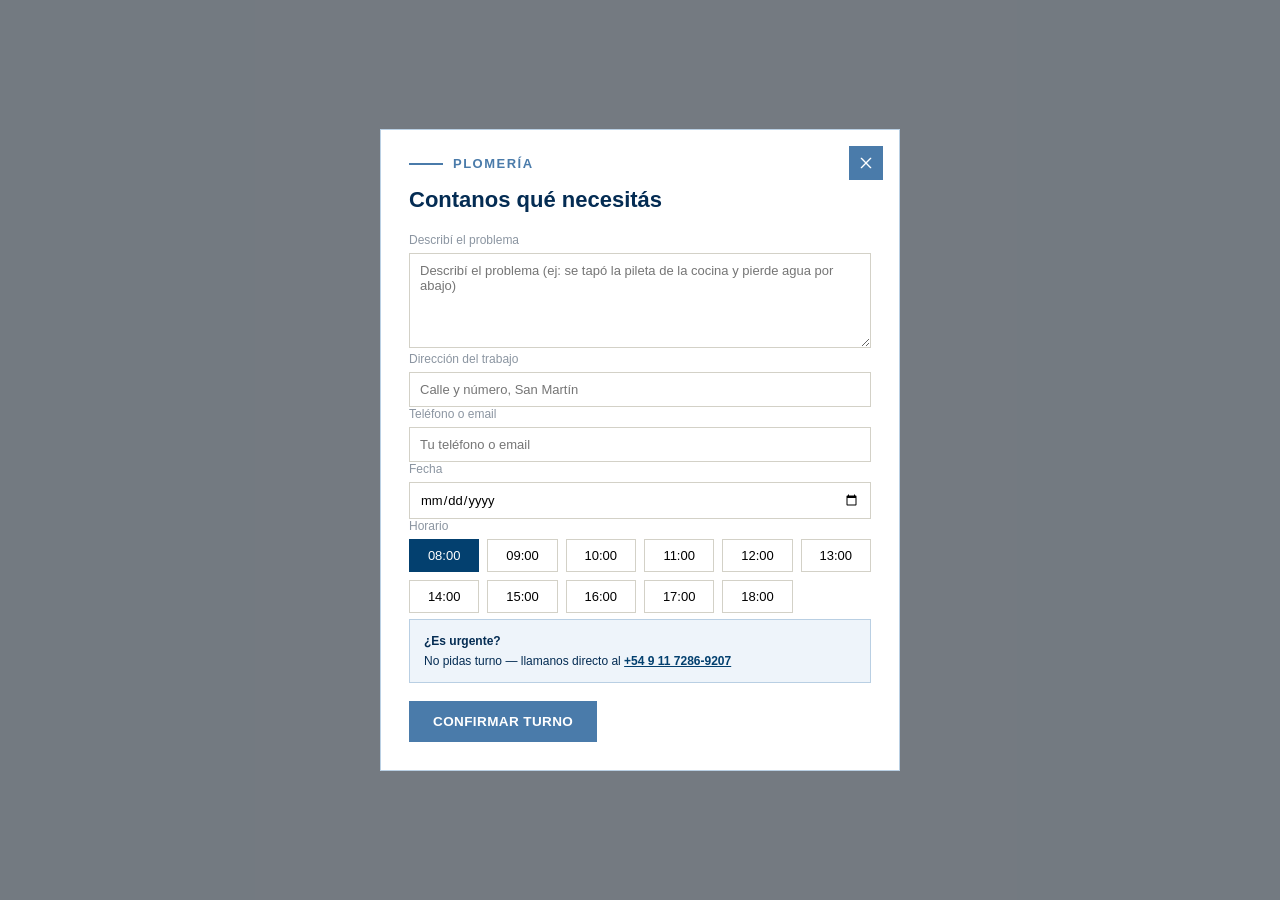
BookingModal › muestra el mensaje de horario ocupado (SLOT_TAKEN) sin romper el form
Type "Se tapó la pileta y pierde agua por abajo." into the text box labelled "Describí el problema" at (640, 300), box [409,253,871,348]
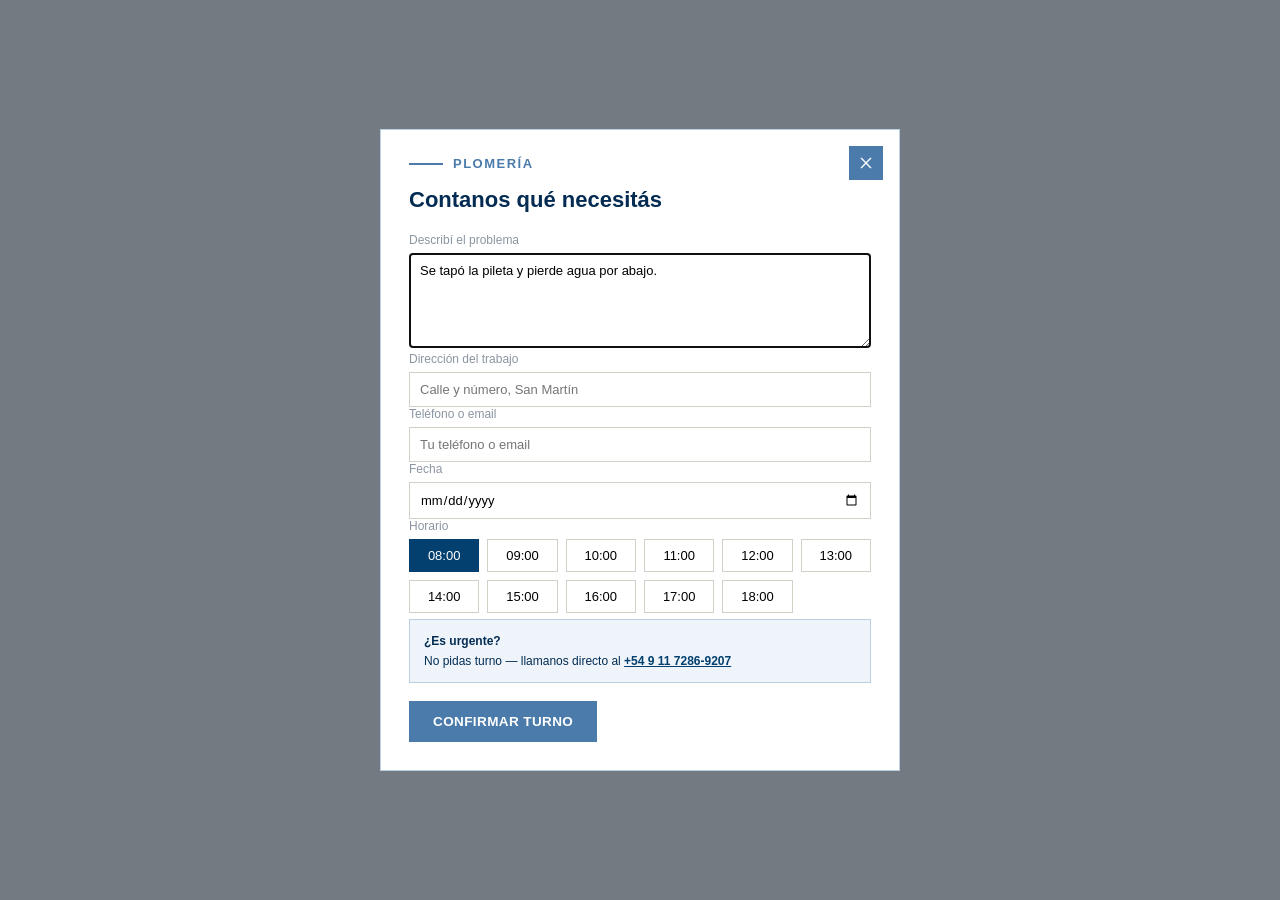
Type "Av. San Martín 1234" into the field labelled "Dirección del trabajo" at (640, 390), box [409,372,871,407]
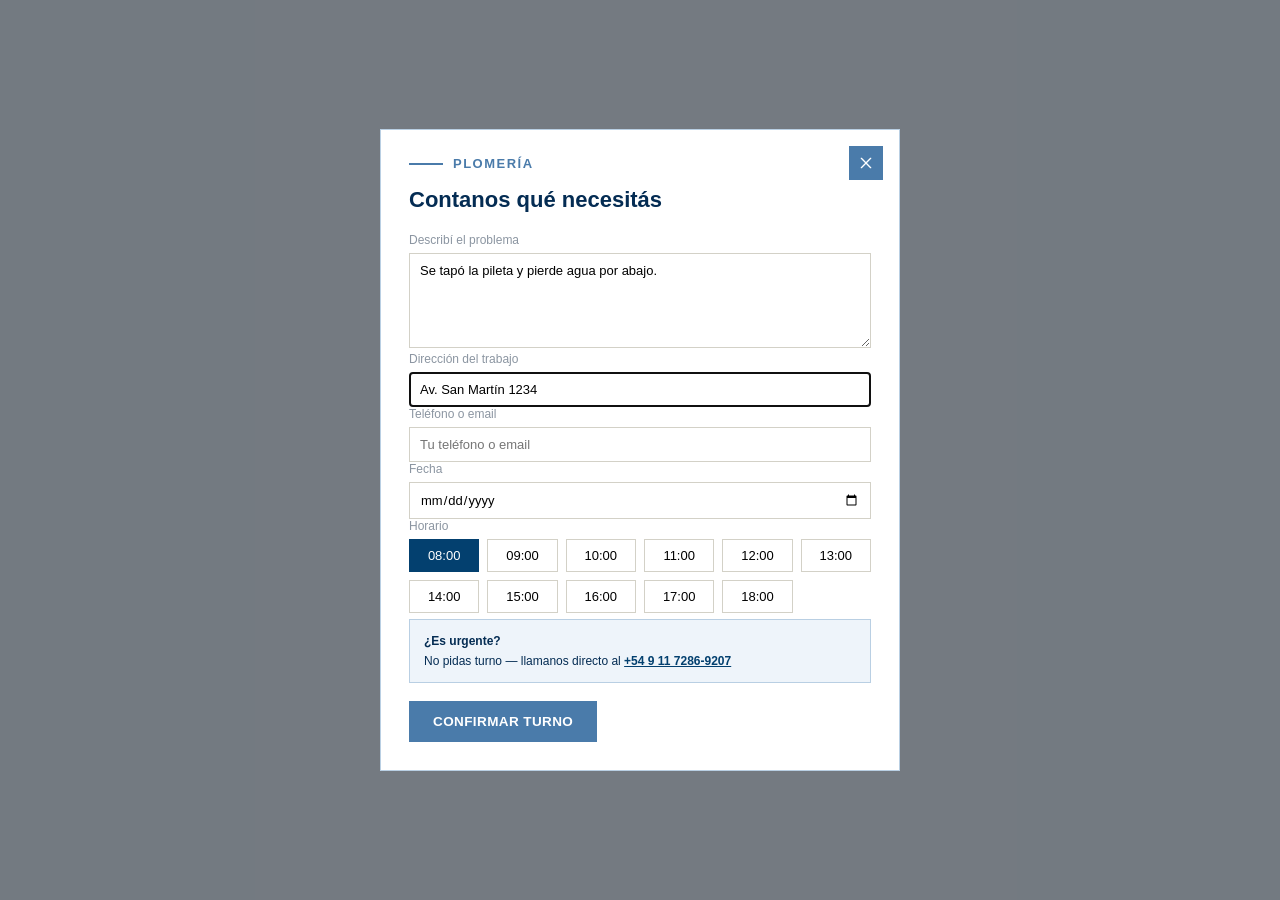
Type "11-2237-0857" into the field labelled "Teléfono o email" at (640, 444), box [409,427,871,462]
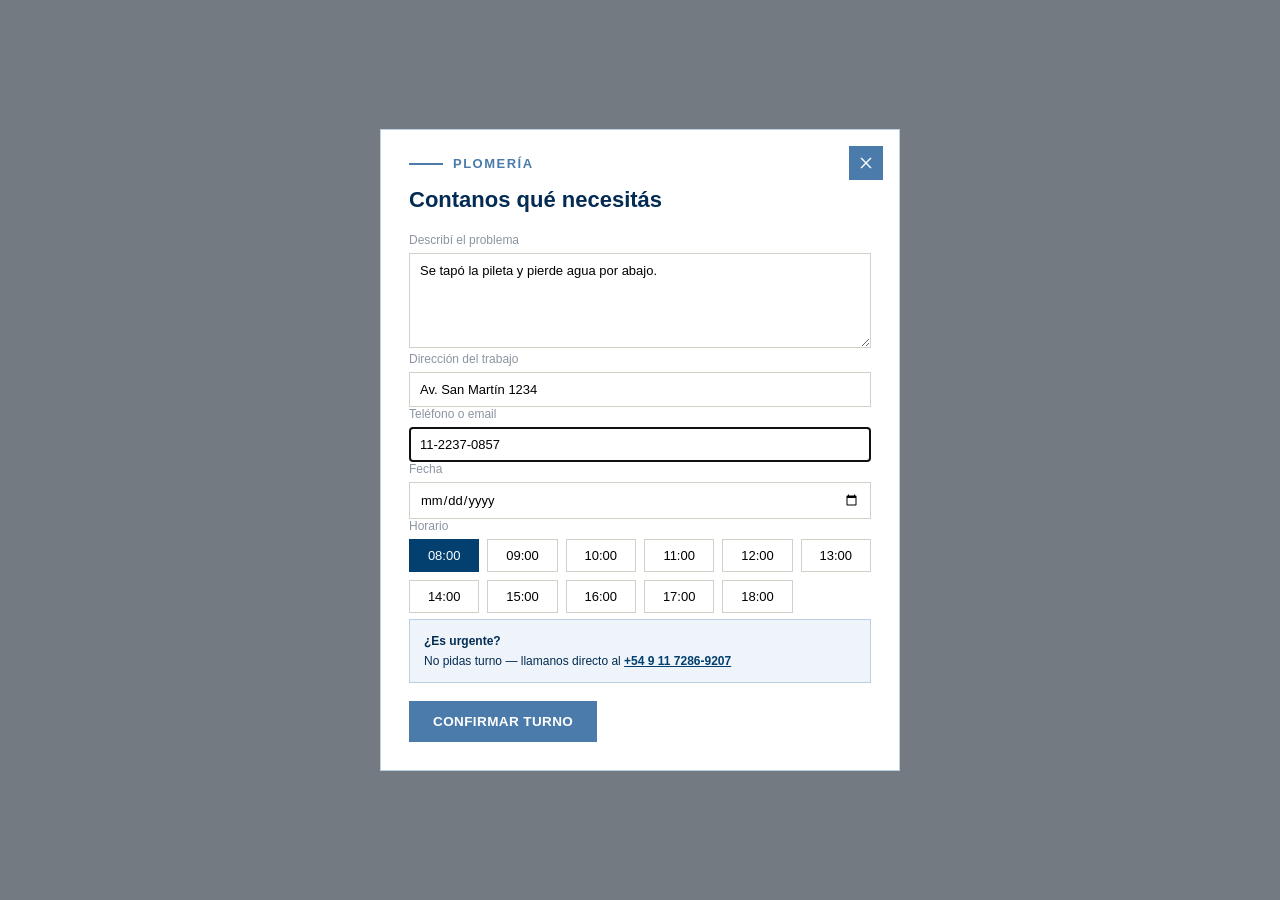
Type "2026-08-10" into the date field labelled "Fecha" at (640, 500), box [409,482,871,519]
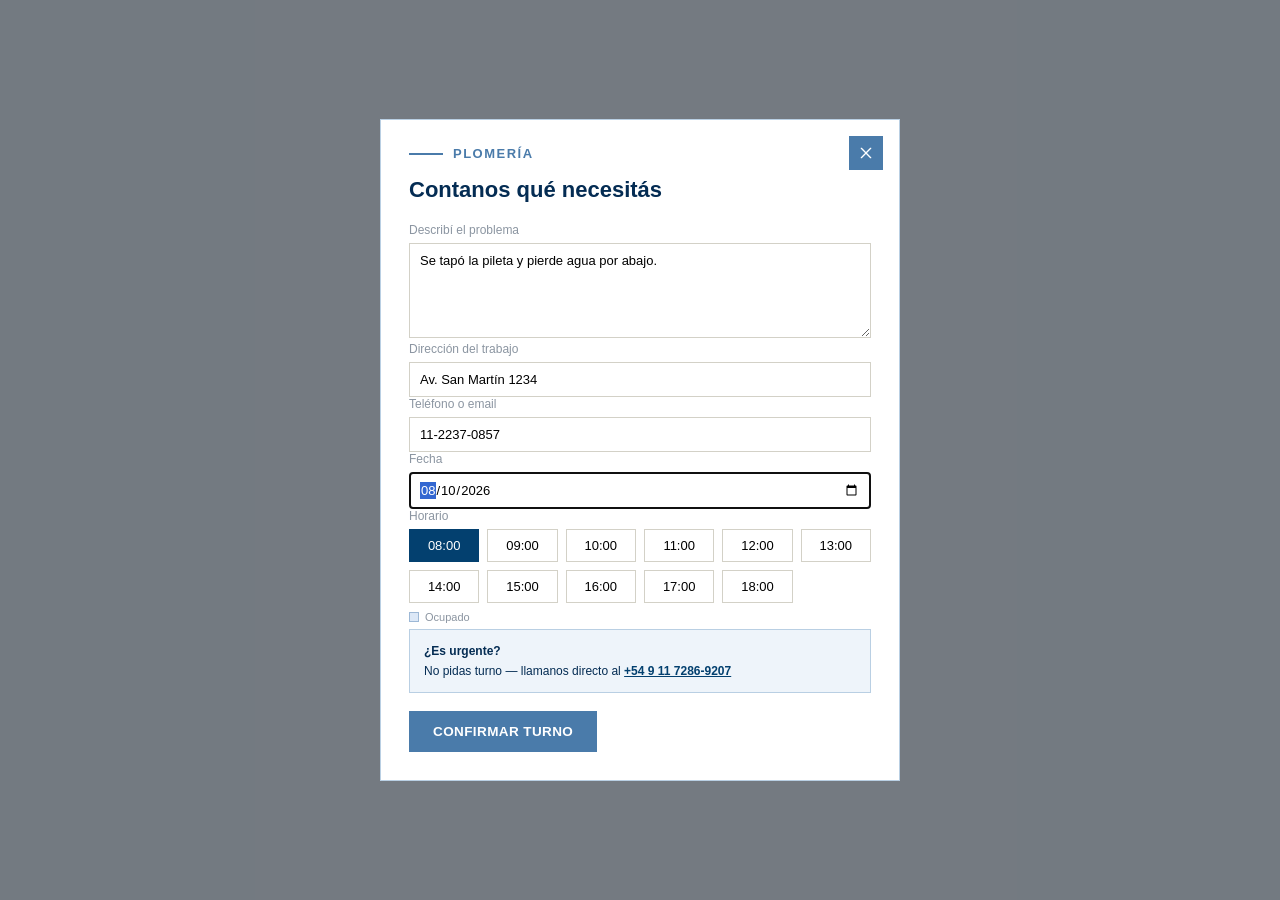
Click the button "Confirmar turno" at (503, 732), box [409,711,597,752]
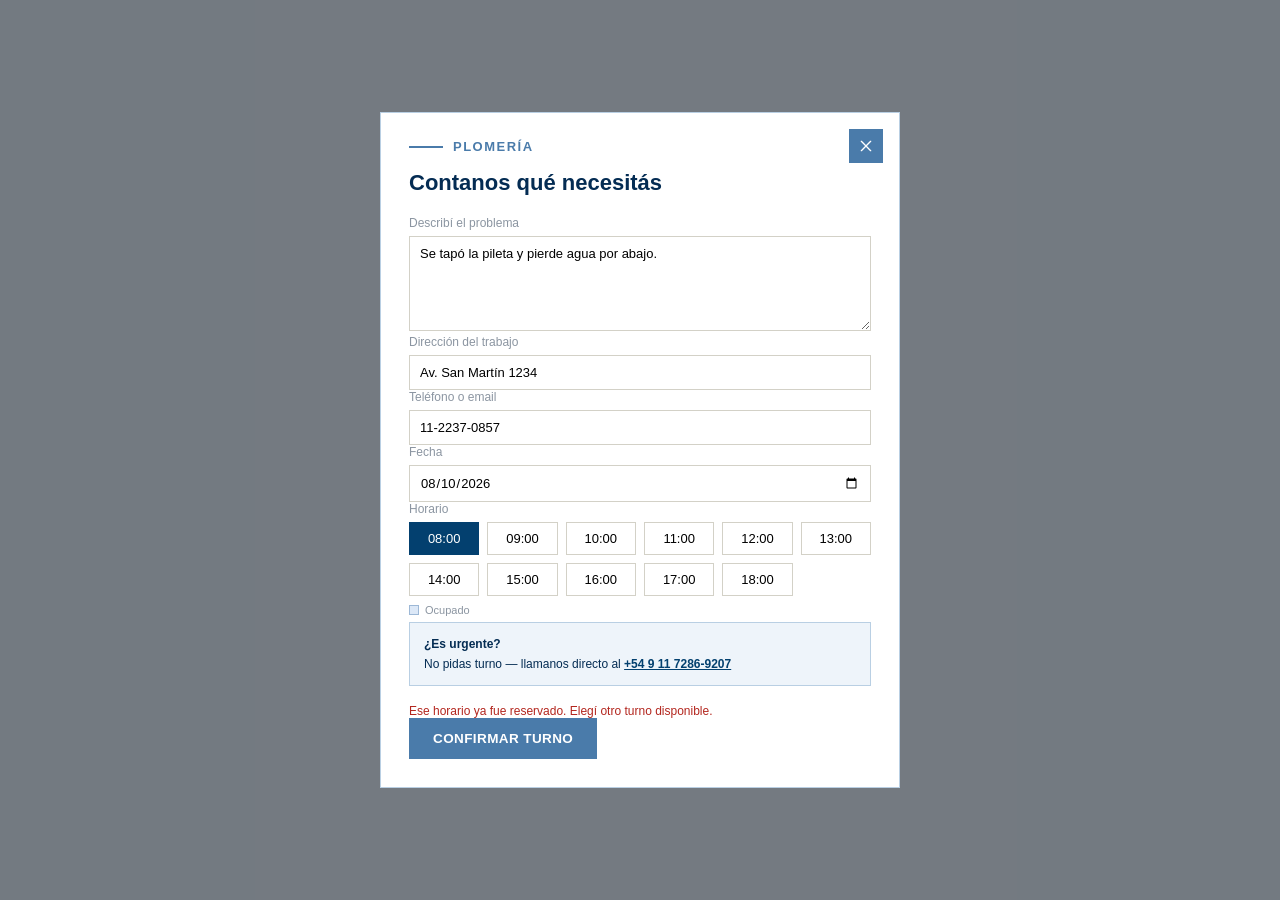
Expected: the text "Ese horario ya fue reservado. Elegí otro turno disponible." is shown, [409,704,712,718]
